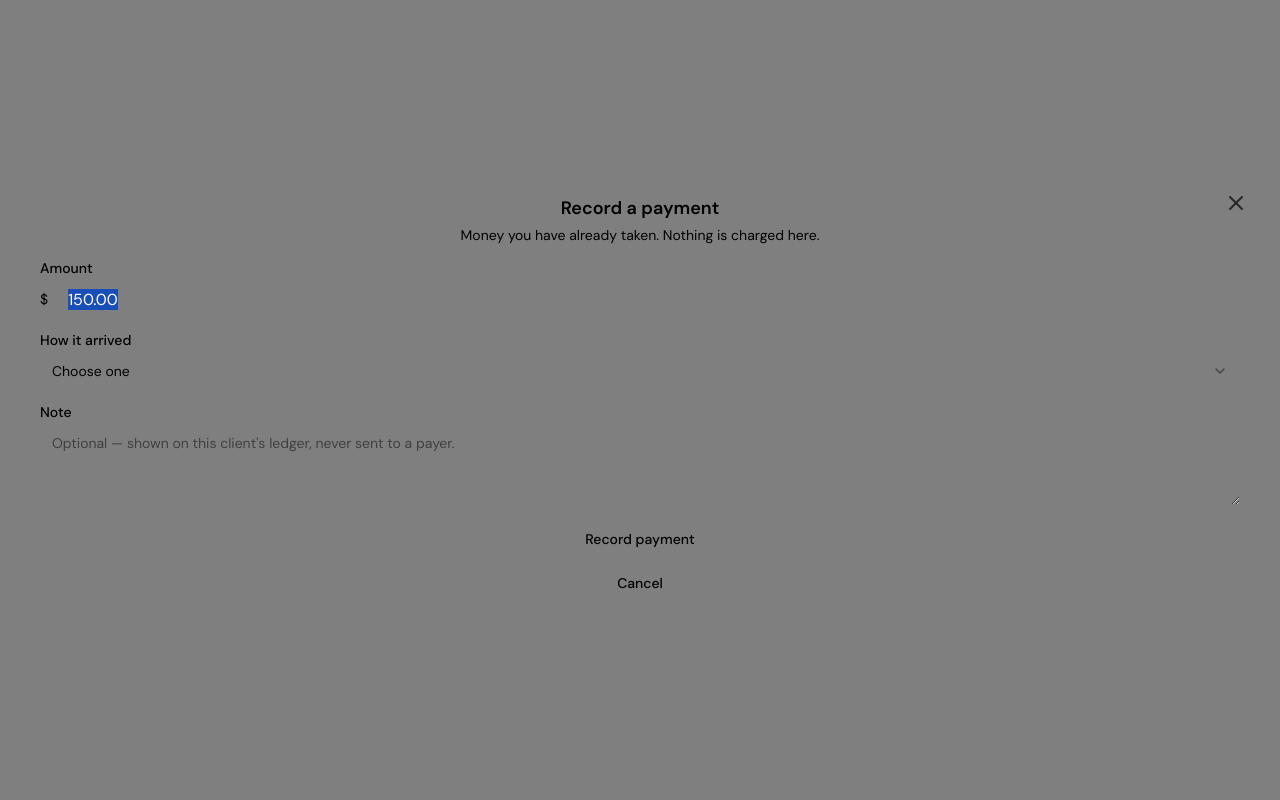
Test: RecordPaymentDialog › refuses an amount that is not a number
This screenshot has width=1280, height=800.
Replace the text in the field labelled "Amount" with "abc" at (648, 299), box left=56, top=281, right=1240, bottom=317
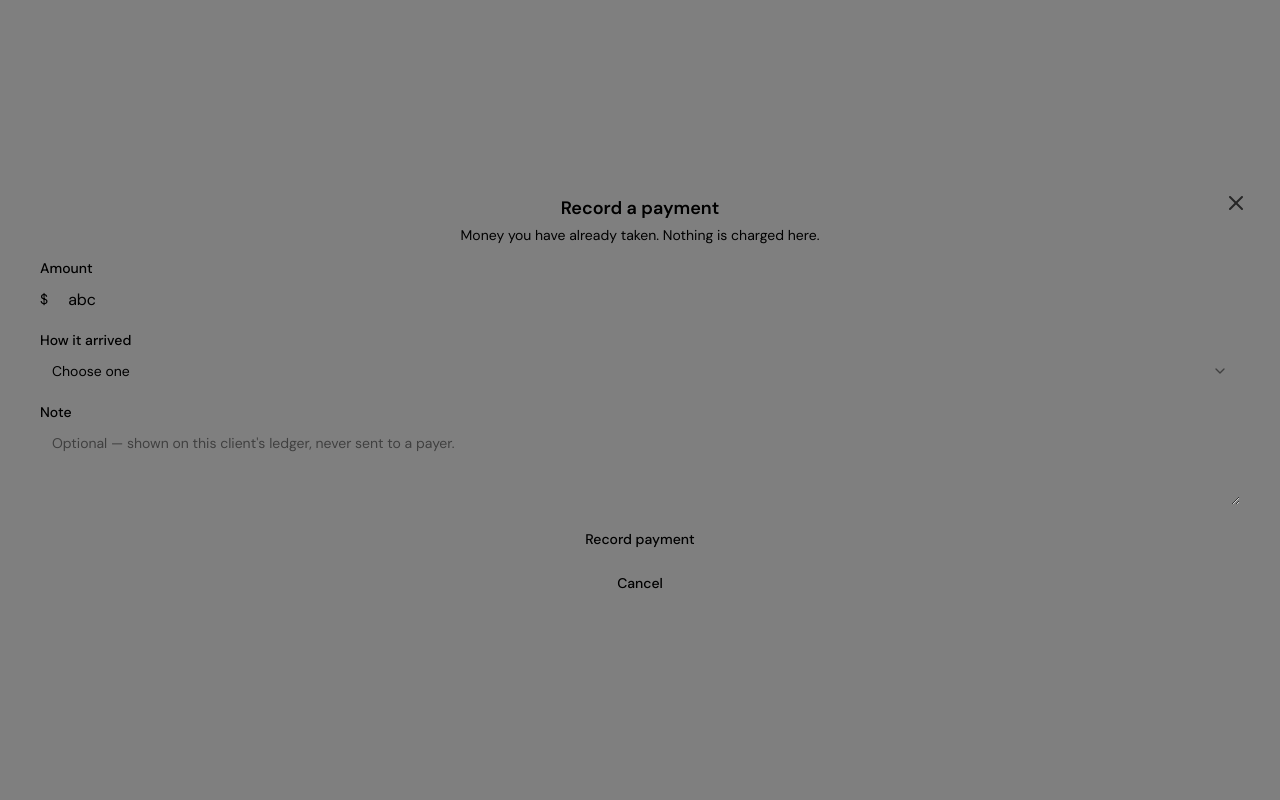
Click the dropdown named "how it arrived" at (91, 371), box left=40, top=353, right=1240, bottom=389
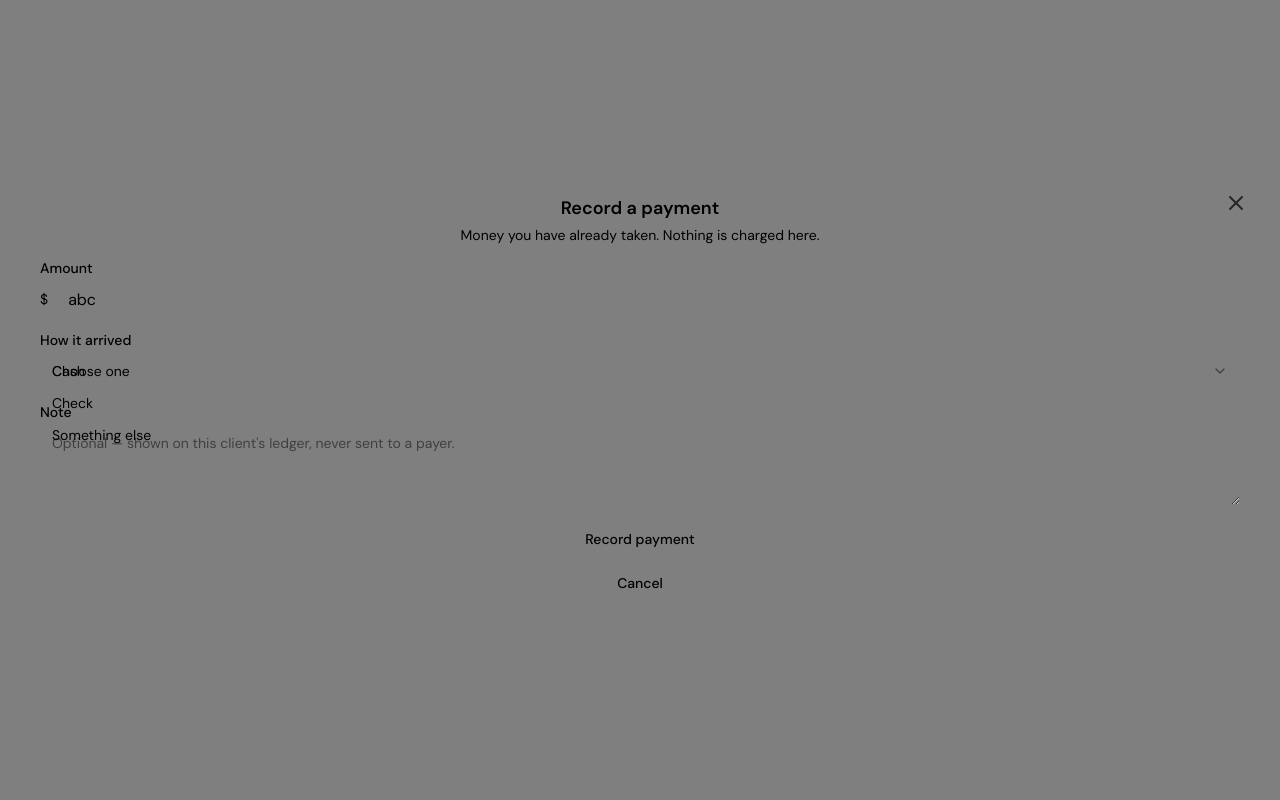
Click the option "Cash" at (68, 371), box left=52, top=362, right=85, bottom=380
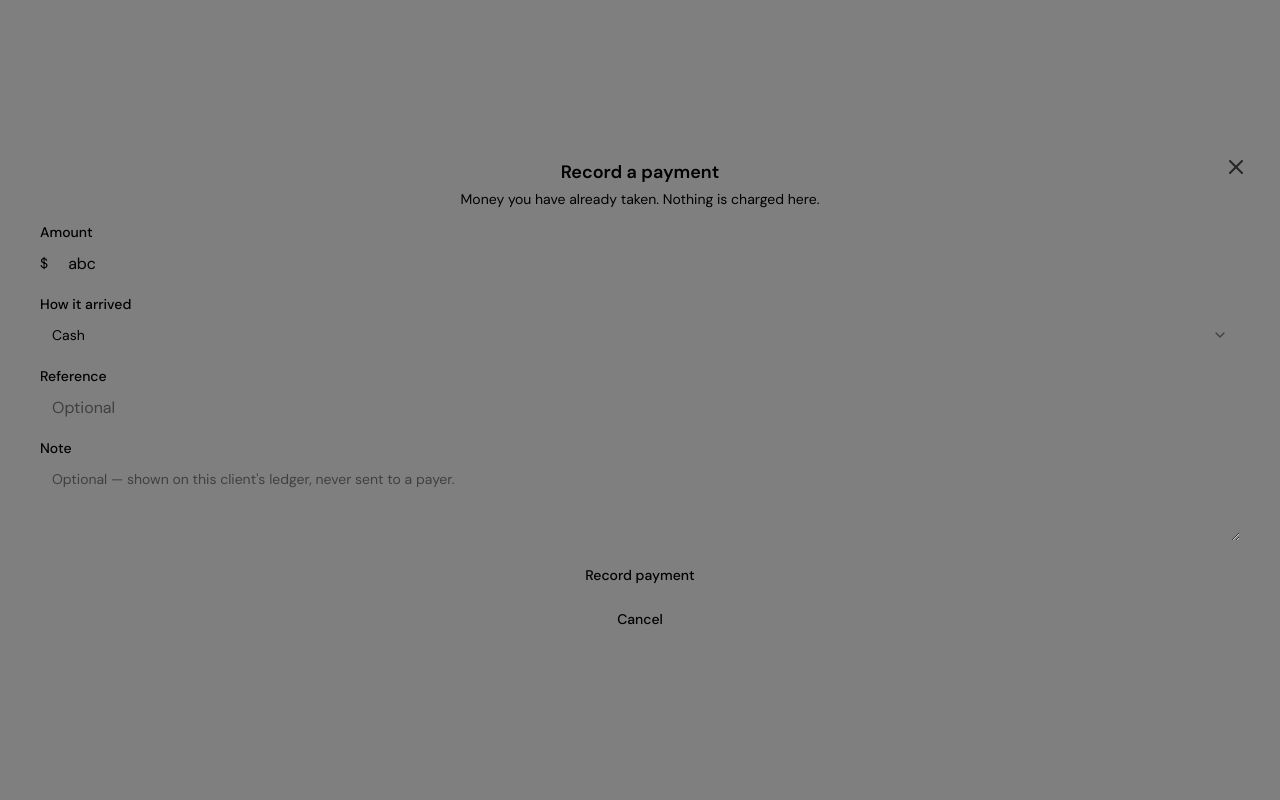
Click the button "Record payment" at (640, 575), box left=40, top=557, right=1240, bottom=593
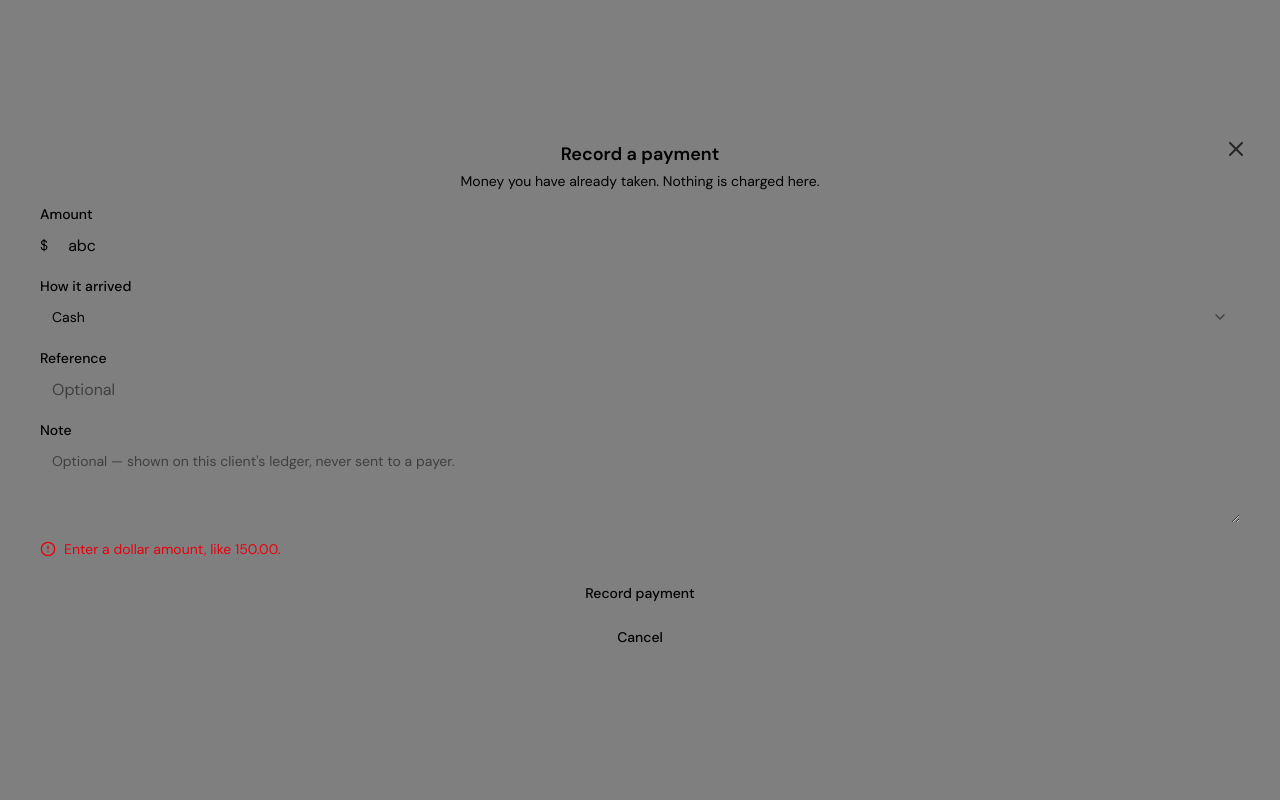
Expected: the message "Enter a dollar amount, like 150.00." is shown, left=40, top=540, right=280, bottom=558
